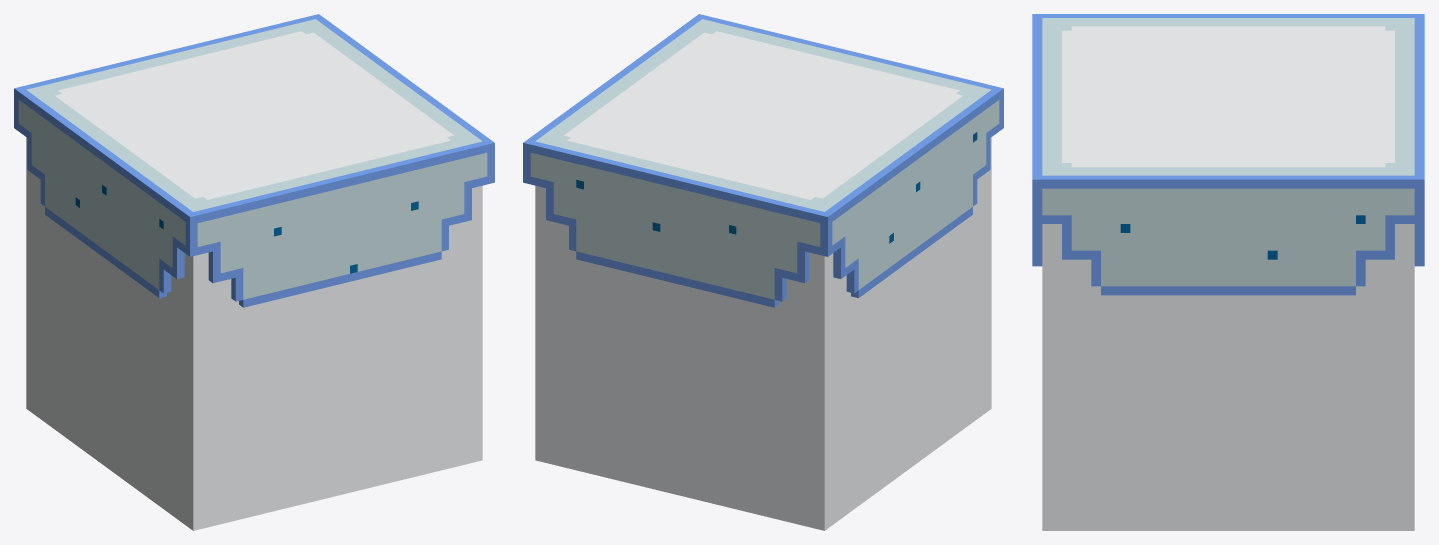
The model's file is tileSnow2.obj.
The picture shows the model from 3 angles, left to right: view 1: azimuth 30°, elevation 25°; view 2: azimuth 150°, elevation 25°; view 3: azimuth 270°, elevation 25°; orthographic projection. The views are drawn at different scales.
Size of the model in its own units: 4 by 4 by 4.
Materials: 1 (1 with a texture image).
